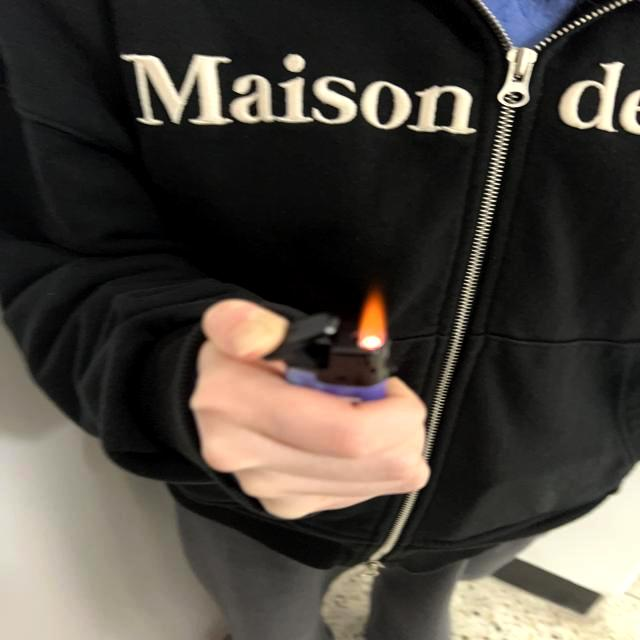fire: (359, 286, 389, 352)
